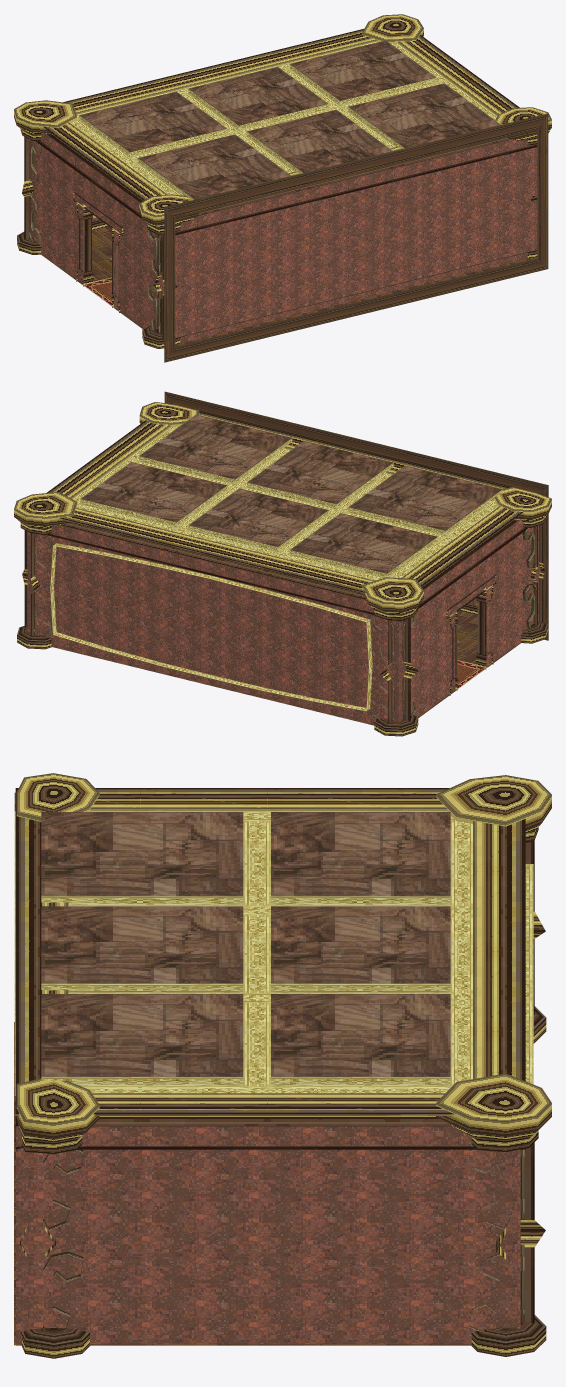
Rendered from room_04.glb.
3 renders of one model, top to bottom at view 1: azimuth 30°, elevation 25°; view 2: azimuth 150°, elevation 25°; view 3: azimuth 270°, elevation 25°, orthographic. The views are drawn at different scales.
Parts seen in each view (by area): view 1: room_04; view 2: room_04; view 3: room_04.
Boxes of the visible parts, bbox=[...] form: room_04: bbox=[14, 14, 551, 362]; room_04: bbox=[14, 391, 551, 736]; room_04: bbox=[14, 773, 551, 1358].
Bounding box in the file's own units: 1640 × 600 × 1062.
13 materials, 13 textured.
